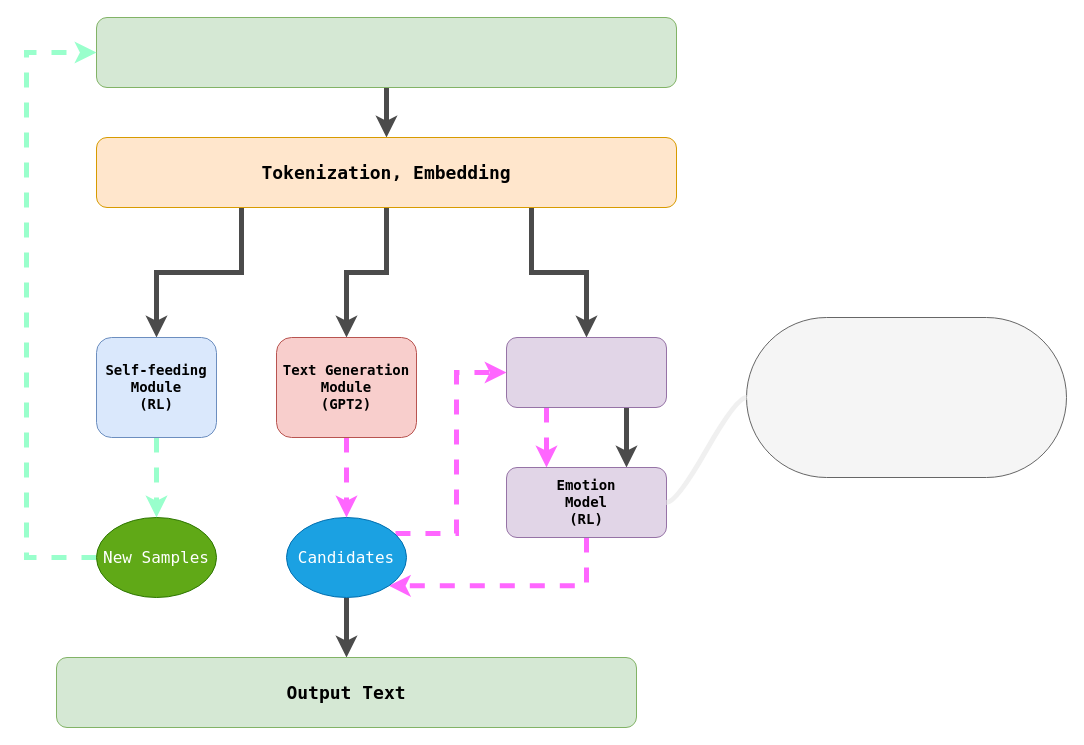
This 1084x745 diagram has some shape labels left out. The centre of each missing label's shape, as x and y in pixels:
"Input Text" belongs at pixel 386 52.
"Sentiment Analysis" belongs at pixel 586 372.
"Using the result of sentiment analysis as input, generate correspond emotion." belongs at pixel 906 397.
